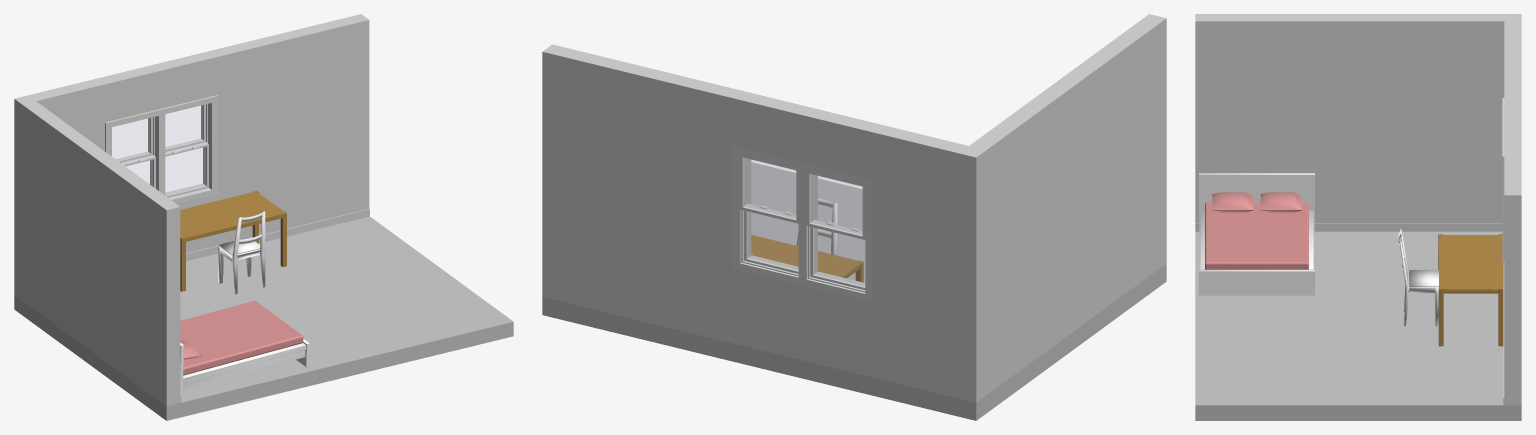
The model's file is L12_W16_furniture2_daylight3.glb.
The picture shows the model from 3 angles, left to right: view 1: azimuth 30°, elevation 25°; view 2: azimuth 150°, elevation 25°; view 3: azimuth 270°, elevation 25°; orthographic projection. The views are drawn at different scales.
Bounding box in the file's own units: 200 × 116 × 152.
